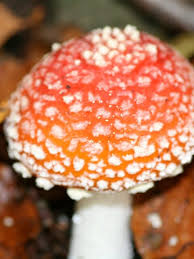pizza: (1, 25, 192, 205)
